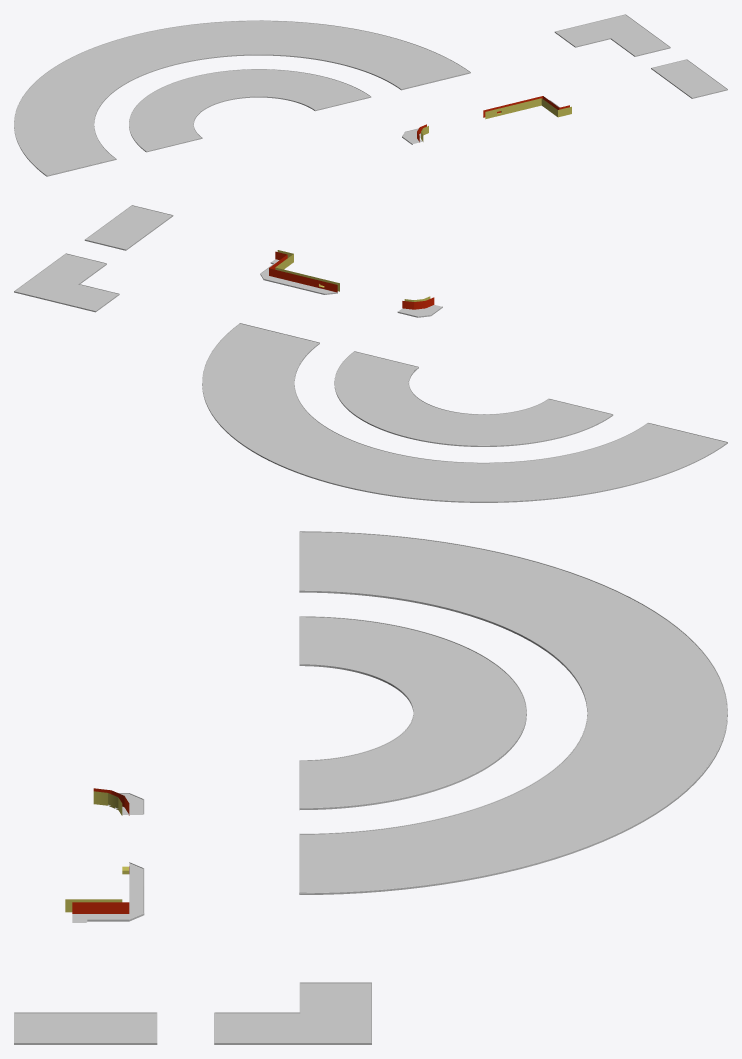
Rendered from un_walls.fbx.
3 renders of one model, top to bottom at view 1: azimuth 30°, elevation 25°; view 2: azimuth 150°, elevation 25°; view 3: azimuth 270°, elevation 25°, orthographic. The views are drawn at different scales.
Parts seen in each view (by area): view 1: b6, b7, b8, b9, un_wall_window_b; view 2: b6, b7, b8, b9; view 3: b6, b7, b8, b9.
Part boxes in pixels (x1,y1,x2,y2): b6: (14, 20, 470, 176); b7: (129, 69, 371, 152); b8: (554, 14, 670, 56); b9: (651, 59, 727, 98); un_wall_window_b: (483, 103, 513, 119); b6: (202, 323, 727, 502); b7: (334, 351, 613, 446); b8: (14, 253, 119, 312); b9: (84, 205, 173, 250); b6: (299, 531, 727, 894); b7: (299, 616, 526, 809); b8: (214, 982, 371, 1044); b9: (14, 1012, 157, 1044).
Size of the model in its own units: 85.28 by 1 by 50.27.
